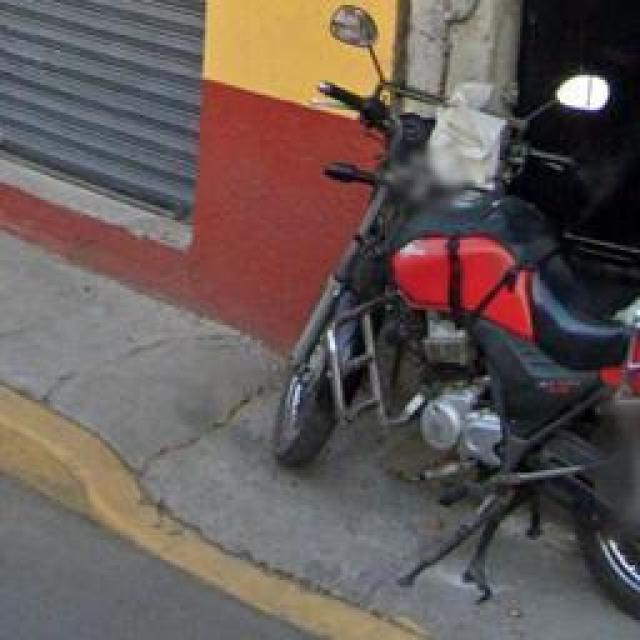Motor: (272, 8, 638, 618)
